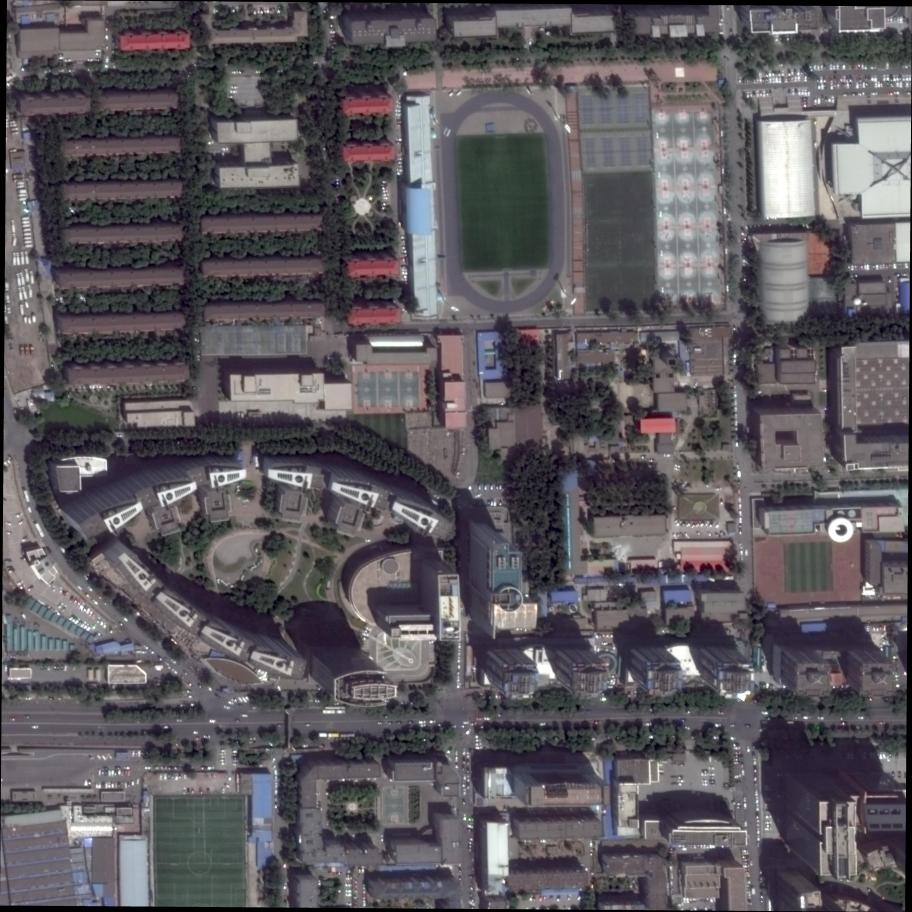large-vehicle: (34, 523, 45, 538), (21, 286, 29, 300), (23, 490, 31, 503), (15, 273, 22, 287), (17, 287, 24, 300), (27, 285, 34, 298), (19, 272, 26, 285), (11, 233, 17, 247), (10, 219, 16, 233), (24, 268, 30, 282), (19, 346, 26, 358), (15, 252, 21, 265), (29, 271, 35, 284), (3, 281, 10, 292), (340, 732, 355, 737), (321, 710, 336, 715), (24, 345, 30, 357), (327, 732, 339, 738), (25, 251, 30, 265), (12, 252, 17, 266), (5, 305, 12, 315), (14, 177, 25, 183), (19, 304, 25, 315), (20, 252, 25, 265), (23, 231, 33, 237), (13, 173, 25, 178), (23, 316, 29, 325), (5, 295, 11, 304), (24, 300, 30, 309), (3, 316, 9, 325), (32, 314, 37, 324), (30, 345, 35, 355), (25, 244, 34, 249), (21, 216, 30, 221), (27, 316, 32, 325), (22, 228, 32, 232), (24, 240, 34, 244), (17, 189, 27, 193), (18, 197, 27, 201), (23, 236, 32, 240), (17, 185, 26, 189), (23, 224, 31, 228), (18, 194, 27, 197), (21, 221, 30, 224), (17, 182, 26, 185)
small-vehicle: (25, 584, 35, 594), (680, 480, 689, 489), (94, 632, 102, 641), (17, 518, 26, 526), (692, 381, 700, 390), (156, 654, 164, 662), (148, 648, 156, 656), (19, 583, 27, 591), (17, 579, 25, 587), (121, 615, 129, 623), (76, 584, 84, 592), (61, 604, 68, 613), (282, 882, 289, 890), (171, 668, 179, 675), (364, 625, 372, 632), (214, 692, 221, 700), (237, 696, 244, 704), (118, 620, 125, 628), (68, 595, 75, 603), (57, 602, 64, 610), (96, 593, 104, 600), (74, 617, 81, 625), (7, 567, 15, 574), (15, 512, 23, 519), (679, 520, 686, 528), (879, 638, 887, 645), (708, 521, 715, 529), (714, 522, 722, 529), (465, 728, 472, 736), (684, 532, 691, 540), (706, 530, 713, 538), (468, 900, 476, 907), (239, 713, 250, 718), (79, 602, 85, 611), (469, 721, 478, 727), (713, 722, 722, 728), (232, 70, 242, 75), (182, 669, 189, 676), (170, 658, 177, 665), (23, 207, 30, 214), (92, 599, 99, 606), (85, 593, 92, 600), (83, 623, 90, 630), (80, 621, 87, 628), (71, 616, 78, 623), (68, 614, 75, 621), (673, 517, 680, 524), (690, 522, 697, 529), (685, 521, 692, 528), (694, 521, 701, 528), (699, 521, 706, 528), (402, 307, 409, 314), (672, 533, 679, 540), (719, 529, 726, 536), (276, 684, 282, 692), (207, 685, 213, 693), (227, 700, 235, 706), (76, 599, 82, 607), (73, 597, 79, 605), (108, 626, 114, 634), (5, 530, 13, 536), (192, 337, 200, 343), (538, 722, 546, 728), (683, 725, 691, 731), (728, 735, 736, 741), (576, 894, 582, 902), (566, 893, 572, 901), (733, 773, 741, 779), (361, 632, 370, 637), (711, 735, 720, 740), (116, 433, 123, 439), (282, 862, 288, 869), (164, 661, 171, 667), (101, 754, 107, 761), (104, 753, 110, 760), (107, 753, 113, 760), (143, 645, 150, 651), (242, 696, 248, 703), (224, 783, 231, 789), (68, 206, 74, 213), (85, 607, 91, 614), (91, 624, 97, 631), (86, 625, 92, 632), (27, 506, 33, 513), (5, 521, 12, 527), (674, 463, 681, 469), (676, 520, 682, 527), (704, 521, 710, 528), (469, 885, 475, 892), (468, 836, 475, 842), (475, 493, 482, 499), (714, 532, 721, 538), (548, 894, 554, 901), (555, 895, 561, 902), (189, 702, 197, 707), (206, 140, 214, 145), (528, 38, 533, 46), (381, 192, 389, 197), (395, 137, 403, 142), (206, 787, 211, 795), (203, 734, 211, 739), (134, 643, 142, 648), (8, 148, 16, 153), (11, 131, 19, 136), (9, 123, 17, 128), (43, 69, 51, 74), (64, 58, 72, 63), (104, 26, 109, 34), (91, 612, 96, 620), (857, 91, 865, 96), (870, 91, 878, 96), (673, 467, 681, 472), (714, 487, 722, 492), (751, 887, 756, 895), (467, 844, 475, 849), (467, 840, 475, 845), (462, 788, 467, 796), (400, 264, 408, 269), (529, 894, 534, 902), (761, 710, 769, 715), (744, 723, 752, 728), (728, 723, 736, 728), (644, 722, 652, 727), (197, 683, 203, 689), (188, 682, 194, 688), (30, 725, 39, 729), (96, 754, 102, 760), (87, 586, 93, 592), (3, 461, 9, 467), (468, 892, 474, 898), (696, 530, 702, 536), (182, 788, 187, 795), (63, 664, 68, 671), (97, 769, 102, 776), (363, 628, 370, 633), (395, 104, 402, 109), (362, 880, 367, 887), (224, 705, 231, 710), (96, 617, 101, 624), (755, 91, 760, 98), (647, 458, 654, 463), (741, 232, 748, 237), (755, 390, 762, 395), (886, 755, 891, 762), (878, 753, 883, 760), (759, 892, 764, 899), (850, 264, 855, 271), (847, 263, 852, 270), (419, 723, 426, 728), (466, 775, 471, 782), (457, 867, 462, 874), (467, 847, 474, 852), (466, 827, 473, 832), (462, 814, 467, 821), (484, 716, 491, 721), (462, 720, 469, 725), (476, 716, 483, 721), (753, 758, 758, 765), (183, 772, 187, 780), (170, 766, 178, 770), (144, 766, 152, 770), (199, 787, 203, 795), (98, 781, 102, 789), (104, 768, 108, 776), (25, 696, 33, 700), (162, 725, 170, 729), (180, 704, 188, 708), (192, 730, 200, 734), (176, 718, 184, 722), (230, 85, 238, 89), (221, 147, 229, 151), (332, 702, 340, 706), (207, 766, 215, 770), (209, 719, 217, 723), (305, 723, 313, 727), (6, 566, 14, 570), (107, 385, 115, 389), (797, 88, 801, 96), (892, 91, 900, 95), (841, 93, 849, 97), (401, 253, 409, 257), (878, 721, 886, 725), (817, 716, 825, 720), (801, 716, 809, 720), (741, 849, 749, 853), (737, 479, 741, 487), (380, 834, 384, 842), (418, 720, 426, 724), (428, 719, 436, 723), (745, 548, 749, 556), (679, 718, 687, 722), (733, 751, 741, 755), (670, 775, 678, 779), (733, 780, 741, 784), (396, 100, 402, 105), (59, 68, 65, 73), (112, 63, 117, 69), (88, 611, 93, 617), (882, 753, 887, 759), (756, 828, 761, 834), (904, 263, 909, 269), (828, 76, 833, 82), (468, 824, 474, 829), (489, 485, 494, 491), (538, 896, 543, 902), (542, 896, 547, 902), (676, 532, 681, 538), (679, 532, 684, 538), (738, 529, 743, 535), (738, 510, 743, 516), (738, 523, 743, 529), (751, 752, 756, 758), (755, 797, 760, 803), (753, 775, 758, 781), (175, 773, 179, 780), (161, 766, 168, 770), (191, 787, 195, 794), (345, 883, 352, 887), (345, 893, 352, 897), (101, 781, 105, 788), (124, 781, 128, 788), (318, 879, 322, 886), (60, 663, 64, 670), (4, 665, 8, 672), (23, 714, 30, 718), (362, 900, 366, 907), (254, 70, 261, 74), (227, 95, 234, 99), (362, 636, 369, 640), (315, 699, 322, 703), (329, 15, 336, 19), (397, 168, 404, 172), (381, 189, 388, 193), (382, 196, 389, 200), (396, 172, 403, 176), (361, 866, 365, 873), (301, 744, 308, 748), (232, 759, 239, 763), (11, 127, 18, 131), (105, 45, 109, 52), (87, 58, 94, 62), (94, 58, 101, 62), (105, 34, 109, 41), (100, 619, 104, 626), (59, 587, 63, 594), (103, 622, 107, 629), (60, 296, 64, 303), (146, 383, 153, 387), (97, 385, 104, 389), (831, 96, 835, 103), (804, 89, 808, 96), (819, 76, 823, 83), (781, 70, 785, 77), (736, 464, 740, 471), (768, 70, 772, 77), (733, 391, 737, 398), (765, 821, 772, 825), (765, 815, 772, 819), (857, 716, 864, 720), (866, 625, 870, 632), (744, 820, 748, 827), (755, 812, 759, 819), (742, 855, 749, 859), (756, 820, 760, 827), (836, 63, 840, 70), (892, 75, 896, 82), (855, 82, 859, 89), (829, 83, 833, 90), (820, 64, 824, 71), (386, 721, 393, 725), (463, 773, 467, 780), (476, 746, 483, 750), (475, 742, 482, 746), (455, 763, 459, 770), (450, 725, 457, 729), (466, 782, 470, 789), (462, 798, 466, 805), (400, 257, 407, 261), (428, 640, 435, 644), (733, 746, 740, 750), (738, 496, 742, 503), (741, 769, 745, 776), (589, 840, 593, 847), (589, 849, 593, 856), (701, 783, 708, 787), (709, 782, 716, 786), (754, 789, 758, 796), (756, 804, 760, 811), (709, 779, 716, 783), (708, 766, 715, 770), (702, 769, 709, 773), (163, 774, 167, 780), (159, 774, 163, 780), (121, 770, 125, 776), (136, 779, 140, 785), (346, 889, 352, 893), (346, 902, 352, 906), (131, 781, 135, 787), (108, 781, 111, 789), (56, 664, 60, 670), (53, 664, 57, 670), (47, 665, 51, 671), (40, 664, 44, 670), (9, 717, 15, 721), (138, 751, 142, 757), (186, 689, 192, 693), (346, 877, 352, 881), (398, 94, 402, 100), (382, 202, 388, 206), (397, 157, 403, 161), (362, 894, 366, 900), (339, 778, 345, 782), (274, 769, 278, 775), (363, 887, 367, 893), (220, 755, 226, 759), (9, 120, 15, 124), (95, 49, 101, 53), (58, 56, 64, 60), (62, 590, 66, 596), (52, 586, 56, 592), (5, 559, 11, 563), (778, 77, 782, 83), (814, 98, 817, 106), (787, 89, 791, 95), (759, 91, 763, 97), (749, 92, 753, 98), (787, 69, 791, 75), (858, 76, 862, 82), (772, 77, 776, 83), (735, 441, 739, 447), (734, 413, 738, 419), (734, 406, 738, 412), (734, 399, 738, 405), (738, 77, 742, 83), (874, 76, 878, 82), (898, 771, 902, 777), (891, 771, 895, 777), (764, 828, 772, 831), (879, 645, 883, 651), (821, 388, 827, 392), (899, 82, 903, 88), (862, 82, 866, 88), (842, 64, 846, 70), (813, 65, 817, 71), (829, 64, 833, 70), (877, 81, 881, 87), (874, 82, 878, 88), (905, 82, 909, 88), (860, 265, 864, 271), (879, 264, 883, 270), (872, 265, 876, 271), (866, 265, 870, 271), (902, 75, 906, 81), (849, 83, 853, 89), (824, 97, 828, 103), (817, 98, 821, 104), (466, 767, 470, 773), (466, 759, 470, 765), (462, 758, 466, 764), (462, 749, 466, 755), (462, 781, 466, 787), (458, 875, 462, 881), (468, 817, 474, 821), (395, 721, 403, 724), (407, 720, 413, 724), (490, 500, 494, 506), (499, 484, 503, 490), (495, 484, 499, 490), (484, 484, 488, 490), (478, 485, 482, 491), (365, 538, 371, 542), (495, 695, 501, 699), (456, 683, 460, 689), (457, 664, 461, 670), (457, 657, 461, 663), (733, 757, 739, 761), (746, 746, 750, 752), (740, 556, 744, 562), (740, 550, 744, 556), (739, 543, 743, 549), (701, 773, 707, 777), (678, 779, 684, 783), (590, 883, 594, 889), (702, 779, 708, 783), (753, 767, 757, 773), (754, 782, 758, 788), (743, 803, 747, 809), (743, 796, 747, 802), (153, 766, 160, 769), (125, 769, 128, 776), (105, 782, 108, 789), (118, 781, 121, 788), (108, 770, 111, 777), (132, 750, 135, 757), (194, 737, 201, 740), (230, 90, 237, 93), (380, 180, 387, 183), (396, 161, 403, 164), (395, 113, 402, 116), (220, 762, 227, 765), (219, 759, 226, 762), (219, 752, 226, 755), (231, 753, 238, 756), (231, 756, 238, 759), (232, 763, 239, 766), (106, 56, 109, 63), (89, 386, 96, 389), (379, 184, 386, 187), (401, 250, 408, 253), (801, 89, 804, 96), (792, 89, 795, 96), (769, 89, 772, 96), (883, 74, 886, 81), (886, 92, 893, 95), (886, 74, 889, 81), (797, 69, 800, 76), (777, 70, 780, 77), (664, 454, 671, 457), (814, 141, 817, 148), (792, 716, 799, 719), (843, 76, 846, 83), (833, 63, 836, 70), (837, 82, 840, 89), (467, 752, 470, 759), (540, 839, 547, 842), (494, 500, 497, 507), (401, 278, 408, 281), (720, 498, 723, 505), (671, 782, 678, 785), (679, 845, 686, 848), (709, 773, 716, 776), (708, 776, 715, 779), (111, 783, 115, 788), (315, 792, 320, 796), (272, 757, 276, 762), (765, 78, 769, 83), (872, 627, 876, 632), (893, 264, 897, 269), (885, 264, 889, 269), (875, 265, 879, 270), (457, 650, 461, 655), (111, 770, 114, 776), (187, 788, 190, 794), (172, 773, 175, 779), (168, 773, 171, 779), (115, 782, 118, 788), (124, 766, 130, 769), (188, 695, 194, 698), (397, 165, 403, 168), (395, 109, 401, 112), (222, 788, 225, 794), (326, 790, 329, 796), (275, 776, 278, 782), (274, 803, 277, 809), (232, 750, 238, 753), (220, 749, 226, 752), (879, 626, 882, 632), (112, 48, 115, 54), (79, 386, 85, 389), (401, 236, 407, 239), (804, 76, 807, 82), (821, 95, 824, 101), (766, 90, 769, 96), (763, 91, 766, 97), (794, 76, 797, 82), (791, 76, 794, 82), (788, 77, 791, 83), (791, 69, 794, 75), (785, 77, 788, 83), (746, 92, 749, 98), (775, 77, 778, 83), (735, 420, 738, 426), (756, 78, 759, 84), (734, 384, 737, 390), (849, 76, 852, 82), (883, 625, 886, 631), (757, 842, 760, 848), (757, 835, 760, 841), (896, 75, 899, 81), (823, 77, 826, 83), (817, 65, 820, 71), (906, 75, 909, 81), (475, 739, 481, 742), (462, 765, 465, 771), (455, 757, 458, 763), (455, 749, 458, 755), (377, 721, 383, 724), (402, 275, 408, 278), (402, 272, 408, 275), (402, 268, 408, 271), (457, 676, 460, 682), (733, 761, 739, 764), (739, 503, 742, 509), (739, 517, 742, 523), (741, 762, 744, 768), (678, 763, 684, 766), (128, 771, 131, 776), (275, 783, 278, 788), (275, 790, 278, 795), (273, 763, 276, 768), (798, 76, 801, 81), (735, 426, 738, 431), (769, 78, 772, 83), (762, 78, 765, 83), (759, 79, 762, 84), (753, 79, 756, 84), (458, 643, 461, 648), (457, 671, 460, 676), (765, 825, 771, 827), (876, 626, 878, 632), (772, 71, 774, 76)
